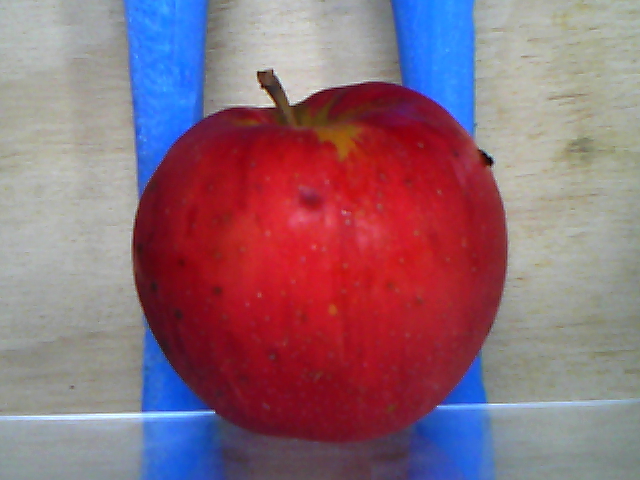stem: (256, 69, 302, 128)
